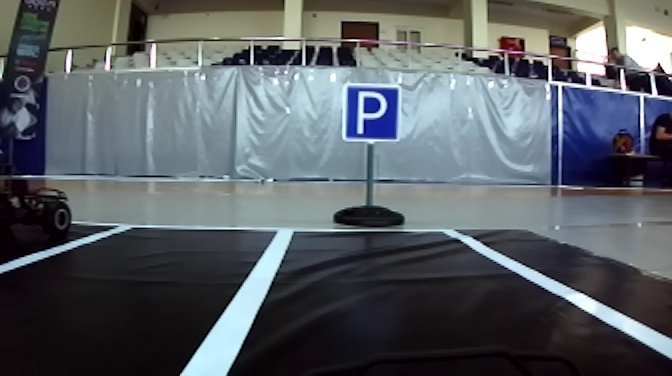park: (340, 83, 401, 142)
